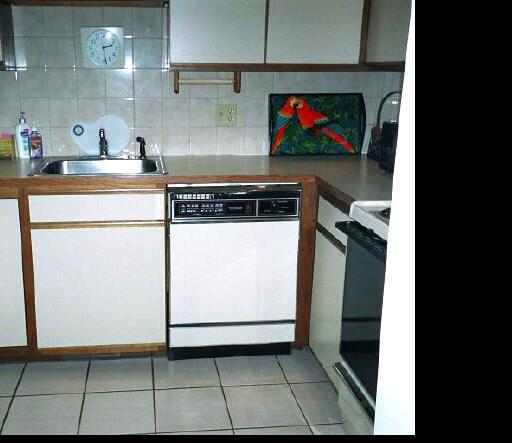Electrodomestico: (164, 177, 298, 361), (336, 218, 390, 428)
Lavaplatos: (38, 126, 163, 178)
